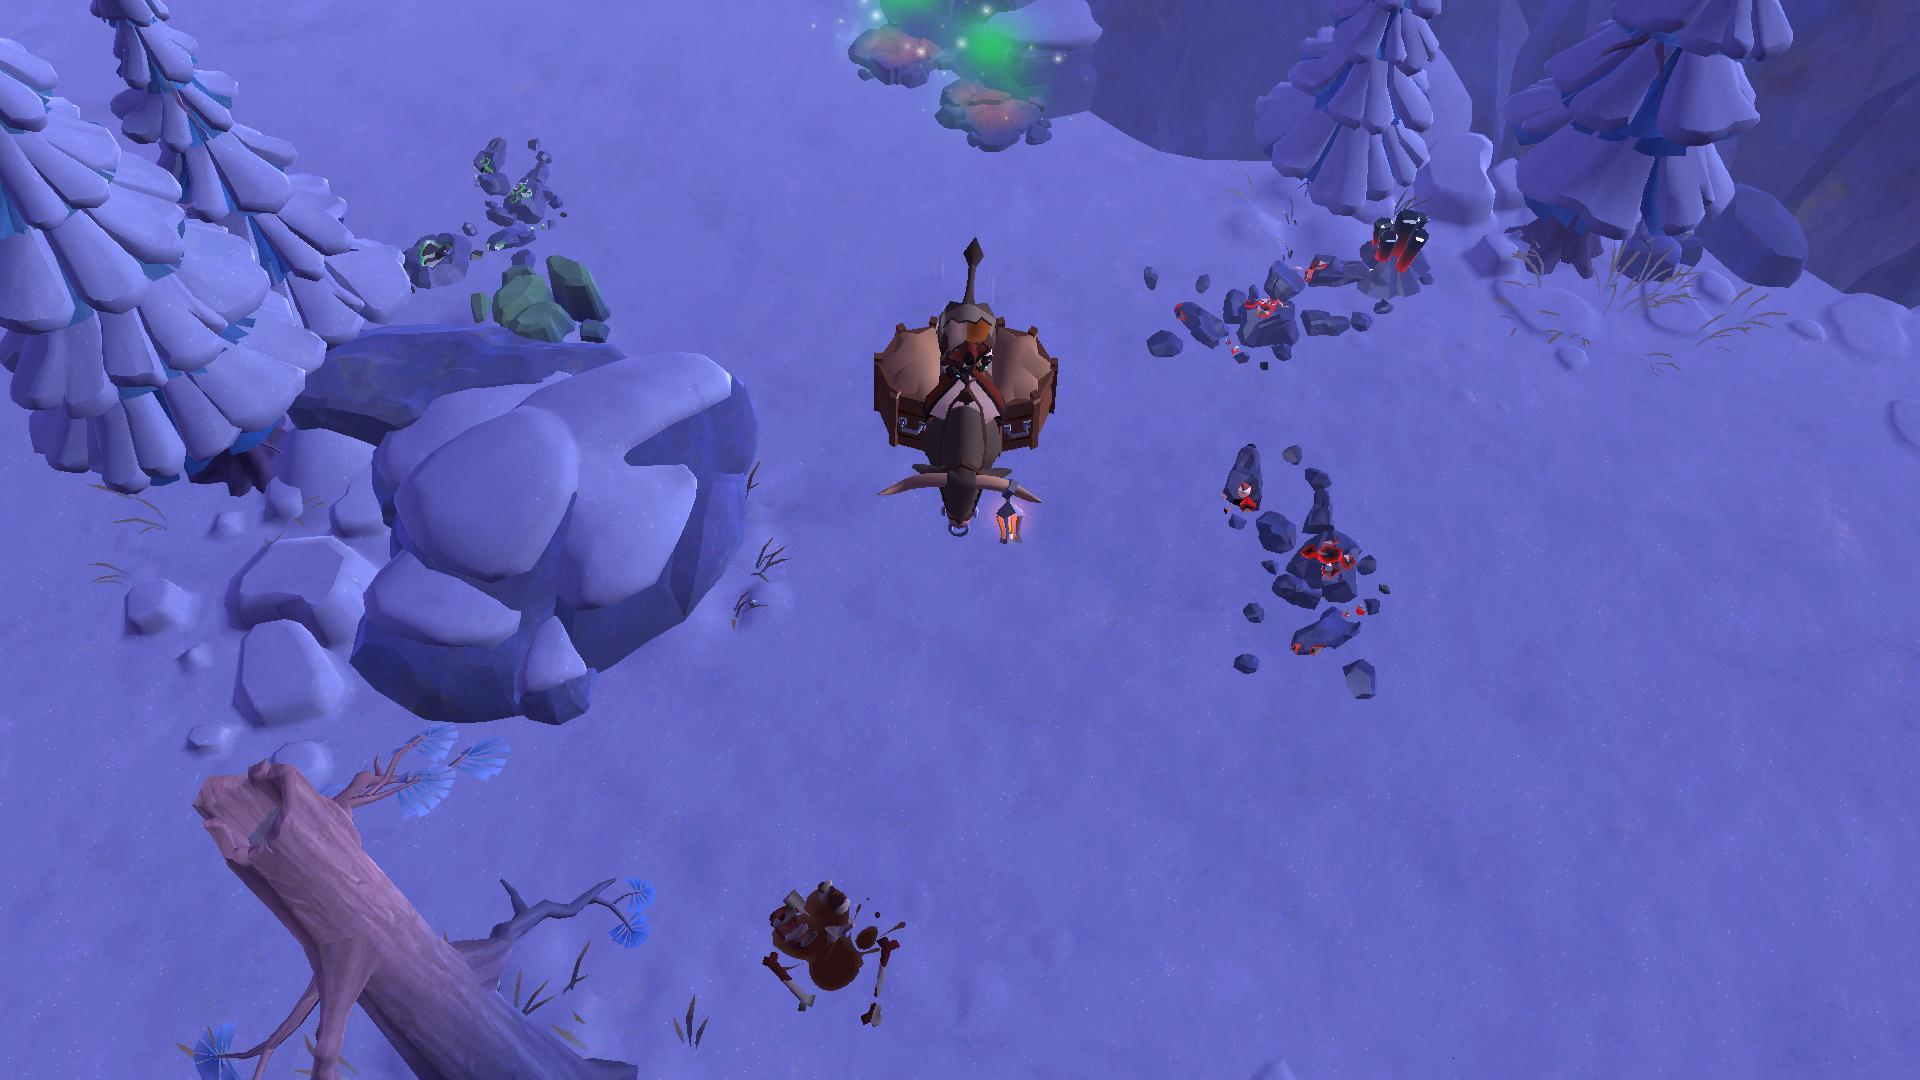ore_t5: (1370, 204, 1431, 269)
rock_t3: (473, 253, 634, 360)
